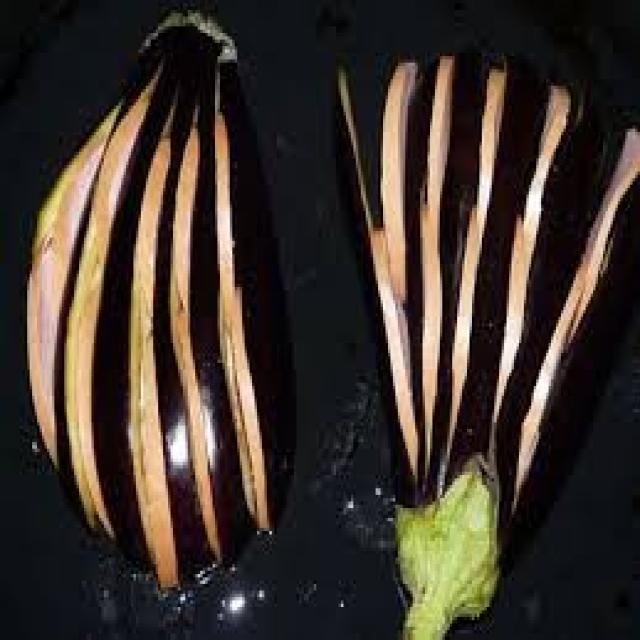eggplant: (307, 57, 640, 640), (30, 25, 337, 608)
